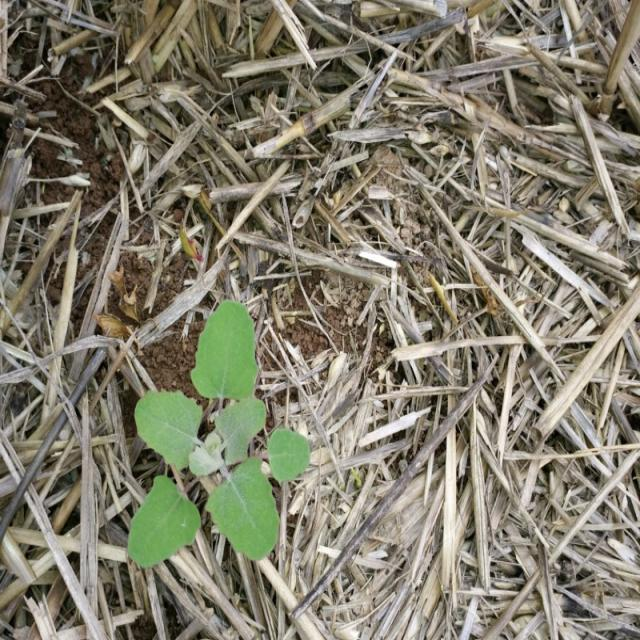ca: (132, 302, 308, 565)
